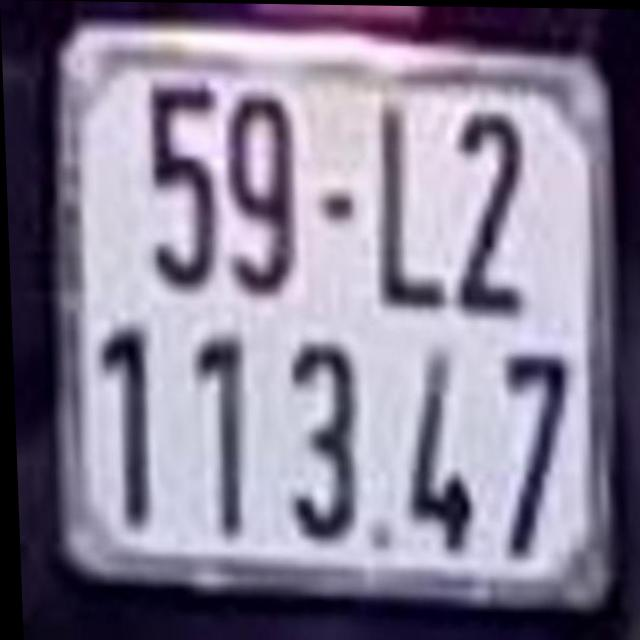1: (97, 325, 166, 529), (198, 337, 246, 527)
2: (448, 105, 527, 309)
4: (401, 342, 476, 559)
5: (285, 336, 359, 545), (144, 81, 215, 282)
7: (492, 346, 568, 561)
9: (217, 90, 301, 294)
L: (372, 106, 448, 314)
